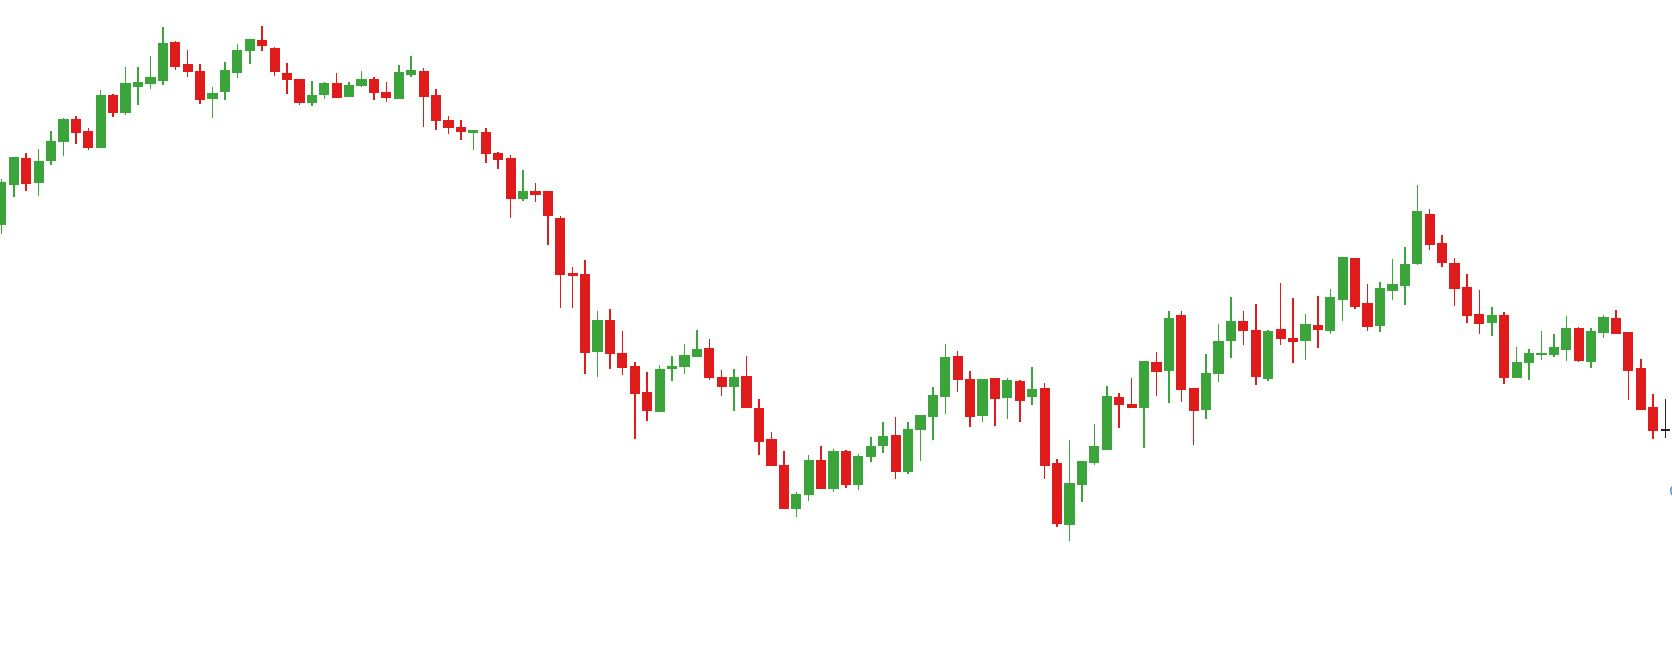buy: (777, 419, 1074, 547)
sell: (1339, 185, 1449, 307), (155, 25, 267, 81)
